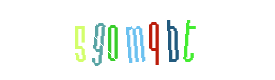5: (62, 0, 142, 80)
B: (114, 0, 194, 80)
G: (68, 0, 148, 80)
M: (97, 0, 177, 80)
O: (95, 0, 175, 80)
Q: (107, 0, 187, 80)
T: (131, 0, 211, 80)
